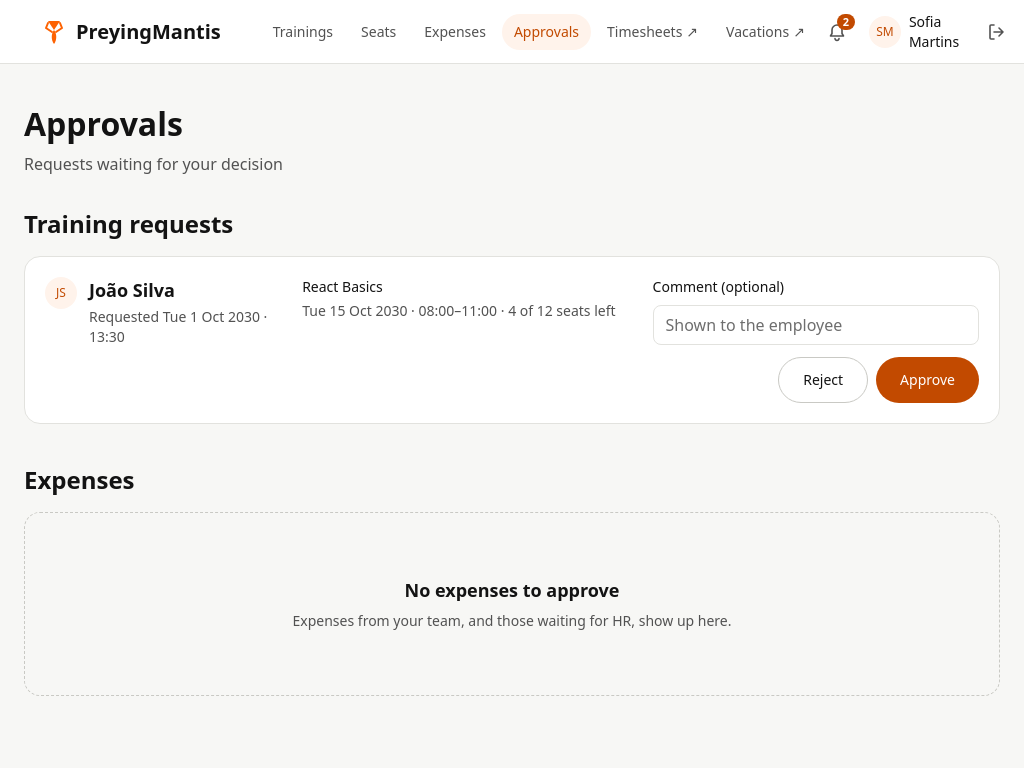
approvals › sends the comment with a rejection too
Type "Next time" into the field labelled "Comment (optional)" at (816, 325), box [653,305,979,345]
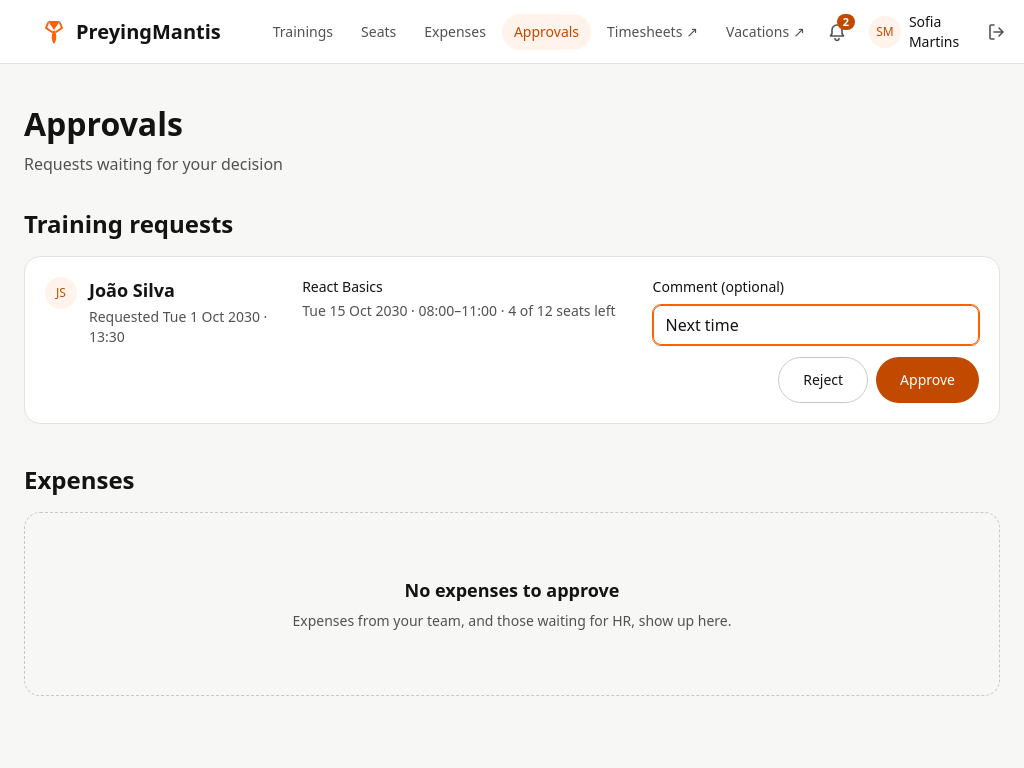
Click the button "Reject" at (823, 380), box [778,357,868,403]
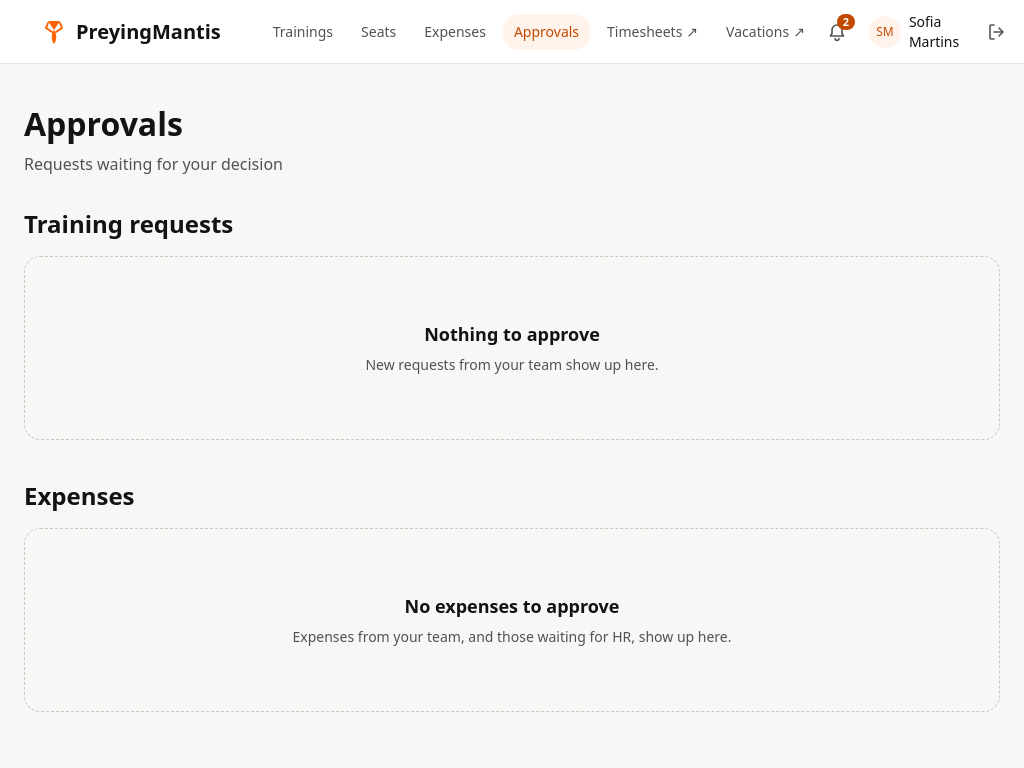
Now the text "Nothing to approve" is shown, box [424,321,600,347]
